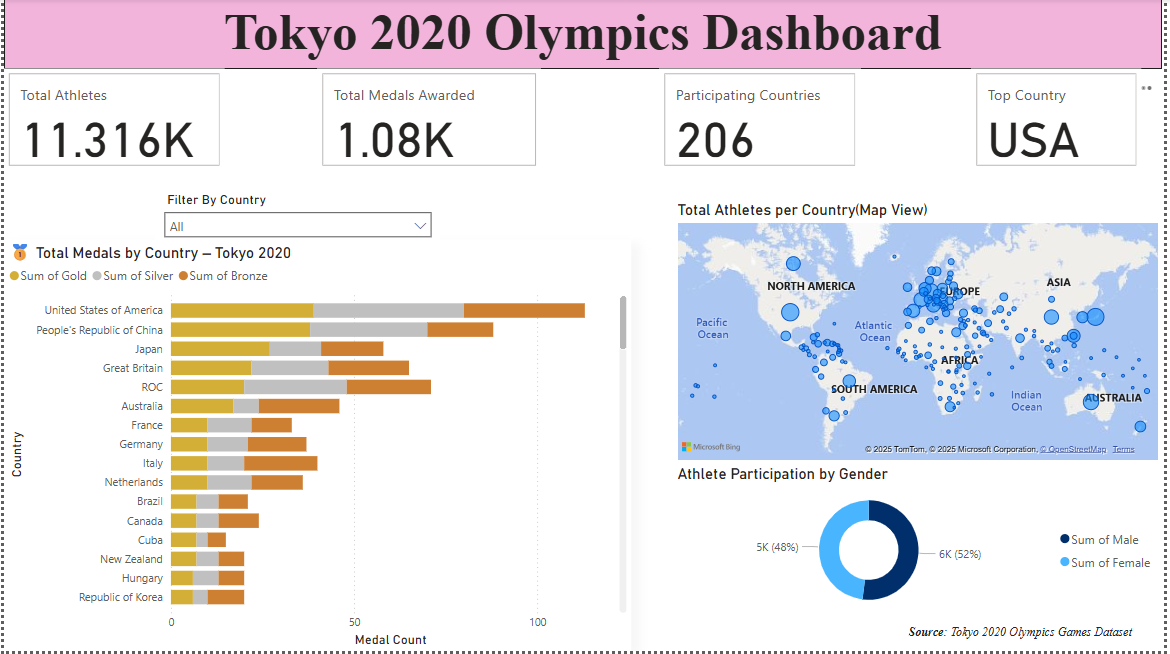

What the dashboard file says about the page in this screenshot:
{"tool":"powerbi","page":{"name":"Page 1","canvas":[1280,720],"ordinal":0},"visuals":[{"type":"textbox","box":[9.4,0,1269.9,155],"z":0},{"type":"textbox","box":[0,0,1278.8,77.9],"z":1000},{"type":"cardVisual","fields":{"Data":["entriesgender.Total"]},"box":[0,77.9,243.5,112.6],"z":2000},{"type":"cardVisual","fields":{"Data":["medals.Total"]},"box":[346.2,77.9,246.8,112.6],"z":3000},{"type":"cardVisual","fields":{"Data":["medals.Top Country"]},"box":[1068.4,77.9,187.2,112.6],"z":4000},{"type":"barChart","title":"🥇 Total Medals by Country – Tokyo 2020","fields":{"Category":["medals.TeamCountry"],"Y":["medals.Gold","medals.Silver","medals.Bronze"]},"box":[0,266.7,692.4,453.9],"z":5000},{"type":"slicer","fields":{"Values":["medals.TeamCountry"]},"box":[167.3,208.7,314.7,58],"z":6000},{"type":"donutChart","title":"Athlete Participation by Gender","fields":{"Y":["entriesgender.Male","entriesgender.Female"]},"box":[738.8,515.2,541.7,169],"z":7000},{"type":"cardVisual","fields":{"Data":["athletes.Country"]},"box":[723.9,77.9,222,112.6],"z":8000},{"type":"map","title":"Total Athletes per Country(Map View)","fields":{"Category":["athletes.Country"],"Size":["athletes.PersonName"]},"box":[738.8,223.6,540,291.5],"z":8001},{"type":"textbox","box":[993.9,684.1,286.6,36.4],"z":8002}]}

Visuals, with their boxes in screenshot pixels (x1, y1, x2, y2), scaled from the page's 1280x720 canvas onto the 1170x654 screenshot:
textbox: [9, 0, 1169, 141]
textbox: [0, 0, 1169, 71]
cardVisual - entriesgender.Total: [0, 71, 223, 173]
cardVisual - medals.Total: [316, 71, 542, 173]
cardVisual - medals.Top Country: [977, 71, 1148, 173]
"🥇 Total Medals by Country – Tokyo 2020" barChart: [0, 242, 633, 653]
slicer - medals.TeamCountry: [153, 190, 441, 242]
"Athlete Participation by Gender" donutChart: [675, 468, 1169, 621]
cardVisual - athletes.Country: [662, 71, 865, 173]
"Total Athletes per Country(Map View)" map: [675, 203, 1169, 468]
textbox: [908, 621, 1169, 653]
